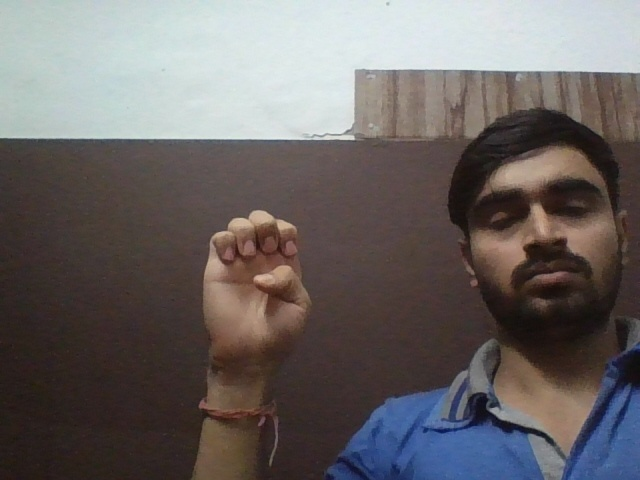E: (196, 206, 331, 361)
